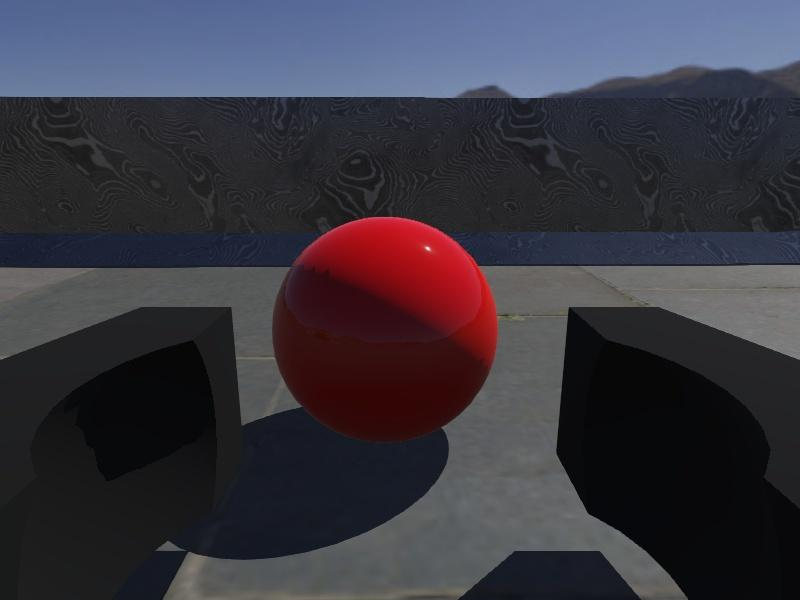red ball: (271, 215, 499, 445)
